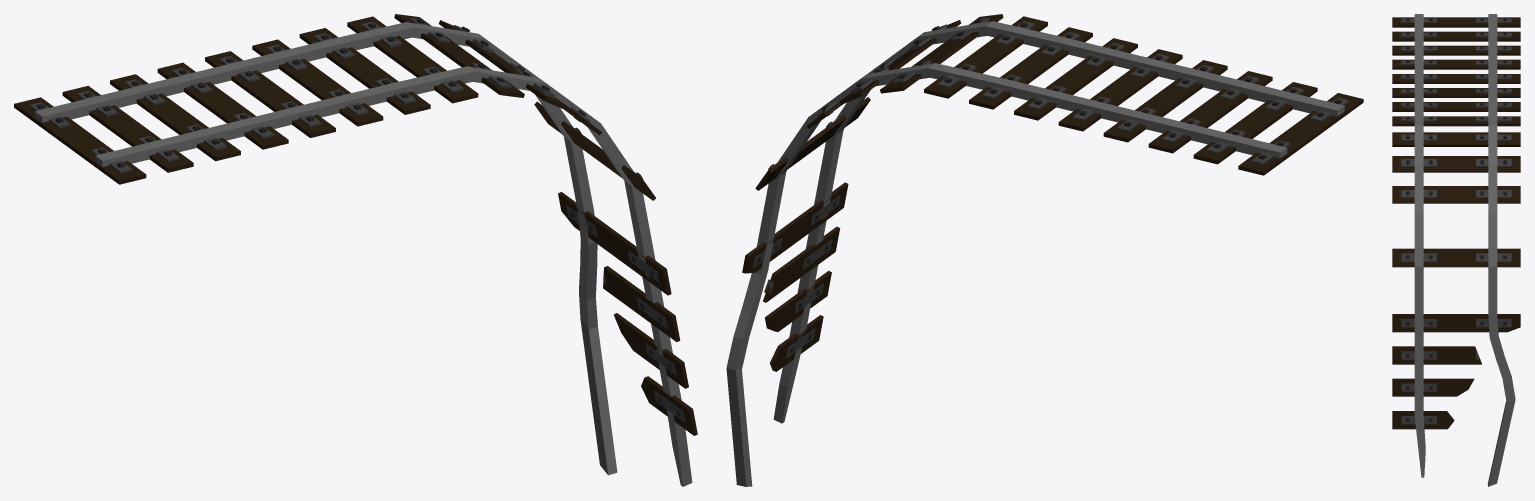
Rendered from rail_kapot.fbx.
3 renders of one model, left to right at view 1: azimuth 30°, elevation 25°; view 2: azimuth 150°, elevation 25°; view 3: azimuth 270°, elevation 25°, orthographic. The views are drawn at different scales.
Parts seen in each view (by area): view 1: Plane.013; view 2: Plane.013; view 3: Plane.013.
Boxes of the visible parts, box(x1,y1,x2,y2) form: Plane.013: box(14, 14, 697, 486); Plane.013: box(726, 14, 1363, 486); Plane.013: box(1392, 14, 1520, 486).
Size of the model in its own units: 7.77 by 6.17 by 2.38.
